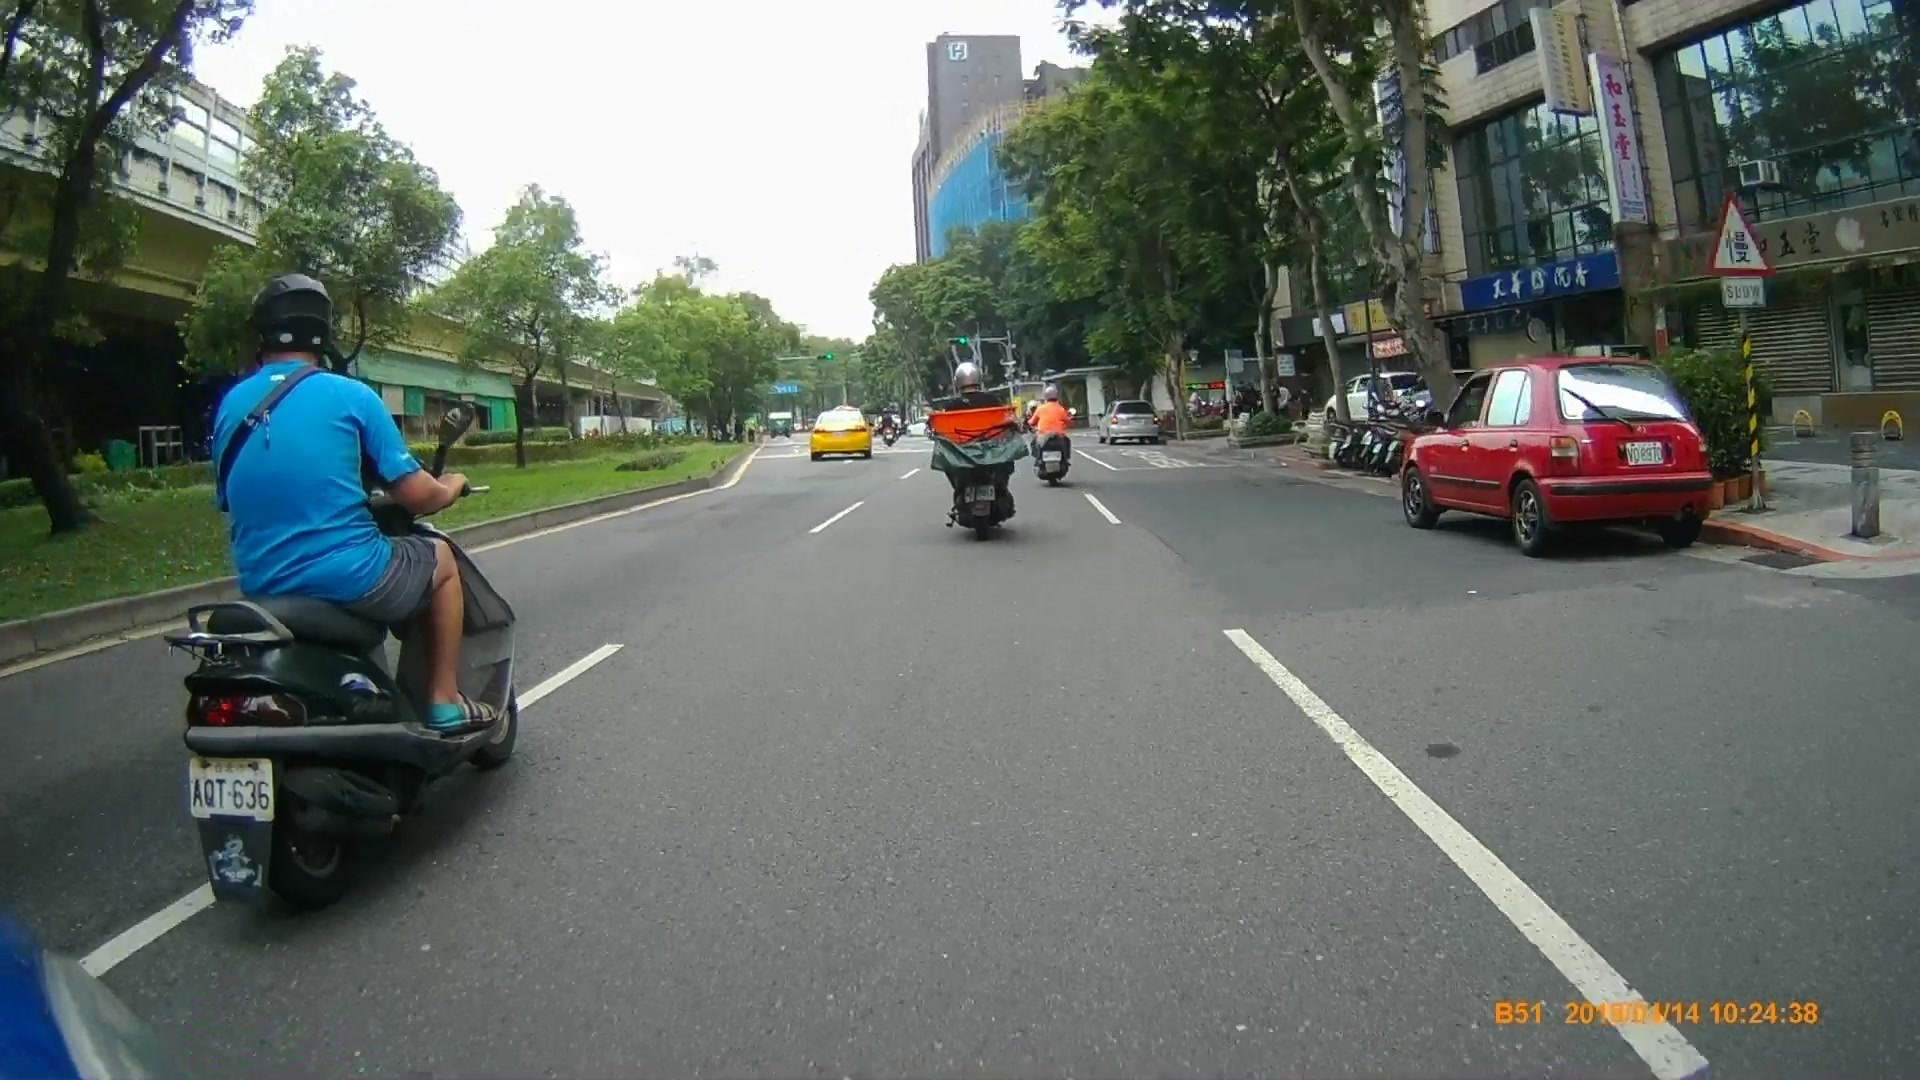License_plate: (186, 757, 277, 821), (955, 483, 1003, 505), (1625, 443, 1668, 466)
